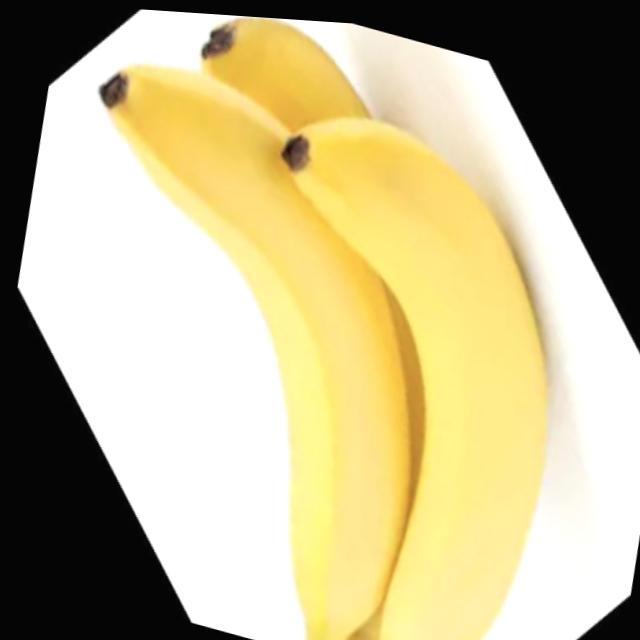Banana: (0, 0, 625, 640)
